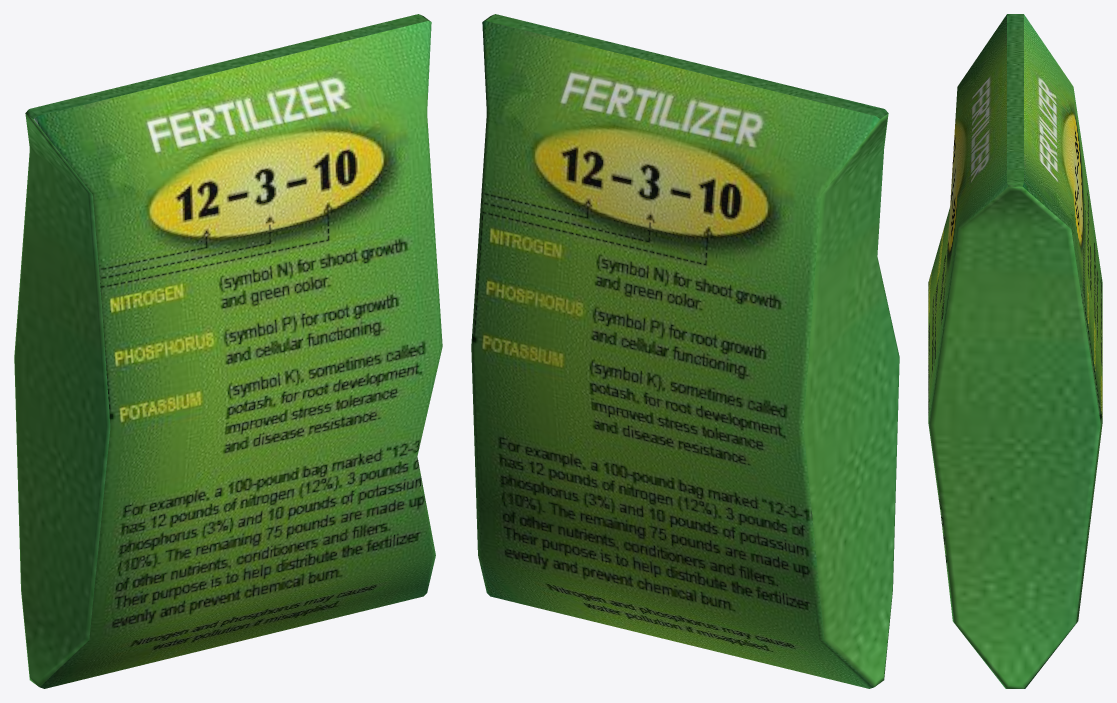
The model's file is FERTILIZERS.fbx.
3 views of the same model, side by side, from view 1: azimuth 30°, elevation 25°; view 2: azimuth 150°, elevation 25°; view 3: azimuth 270°, elevation 25° (orthographic). The views are drawn at different scales.
Visible parts, largest first — view 1: pCube1; view 2: pCube1; view 3: pCube1.
Boxes of the visible parts, x1,y1,x2,y2 form: pCube1: [14, 14, 442, 688]; pCube1: [471, 14, 899, 688]; pCube1: [928, 14, 1102, 688].
Size of the model in its own units: 35.9 by 49.43 by 15.35.
1 material, 1 textured.
